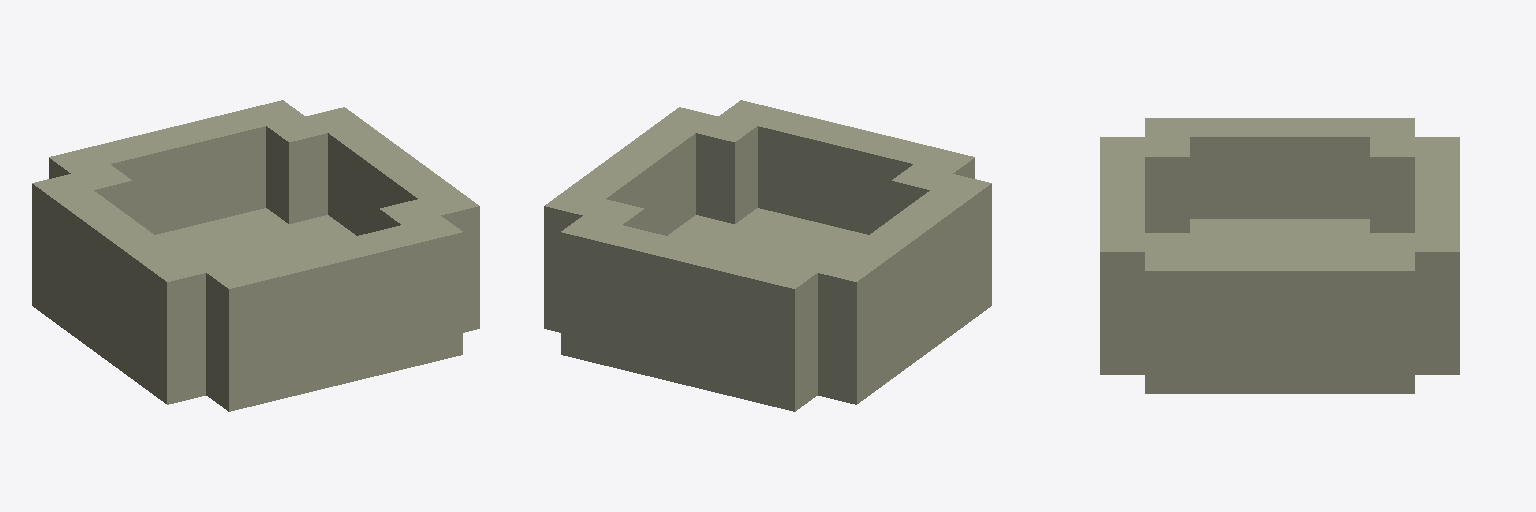
3 views of the same model, side by side, from view 1: azimuth 30°, elevation 25°; view 2: azimuth 150°, elevation 25°; view 3: azimuth 270°, elevation 25° (orthographic).
Parts seen in each view (by area): view 1: object 1; view 2: object 1; view 3: object 1.
Part boxes in pixels (bbox=[...]): object 1: bbox=[32, 100, 479, 411]; object 1: bbox=[544, 100, 991, 411]; object 1: bbox=[1100, 118, 1459, 393].
Bounding box in the file's own units: 0.8 × 0.3 × 0.8.
Materials: 1 (1 with a texture image).